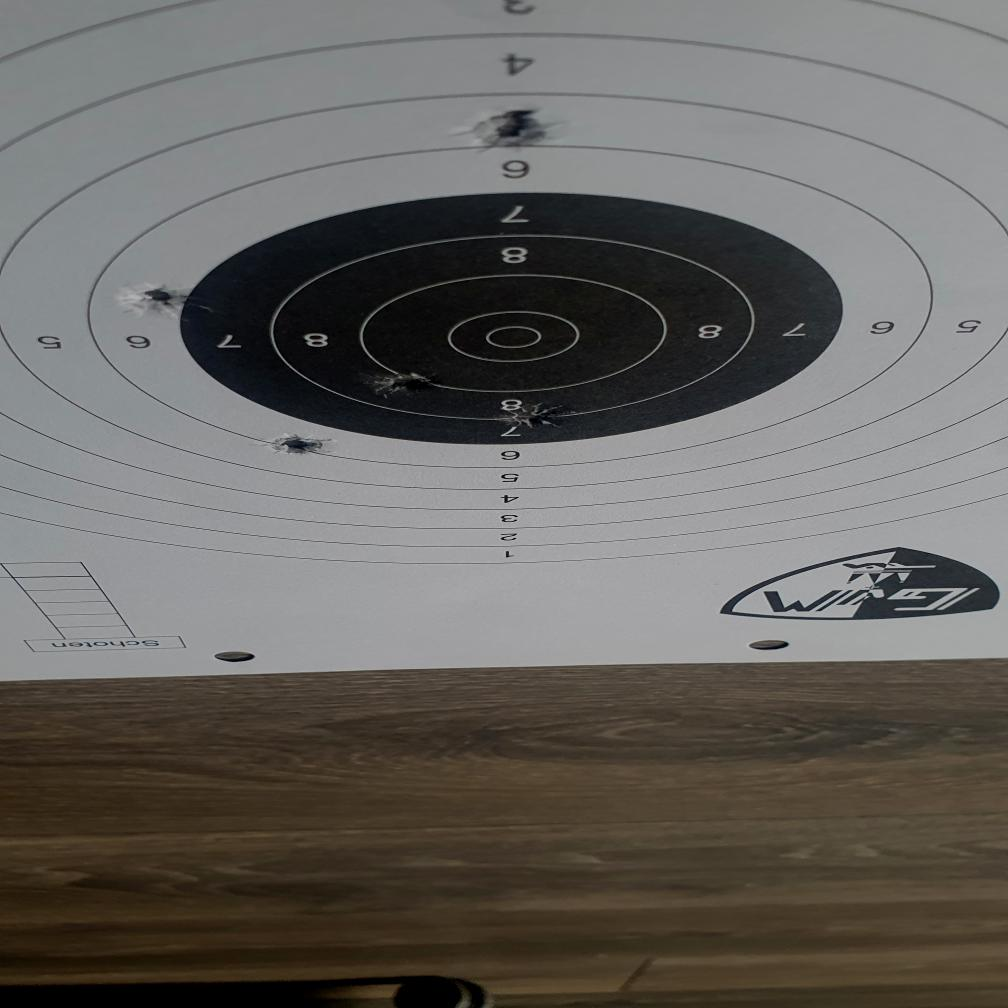6: (457, 107, 564, 154), (112, 282, 212, 317), (262, 432, 336, 459)
8: (492, 402, 573, 430)
9: (360, 371, 441, 398)
Target: (0, 0, 1008, 568)
black_contour: (177, 192, 842, 446)
